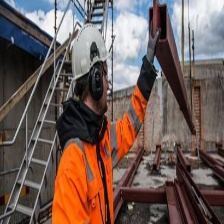helmet: (68, 25, 113, 84)
person: (53, 22, 122, 224)
vest: (57, 130, 121, 224)
